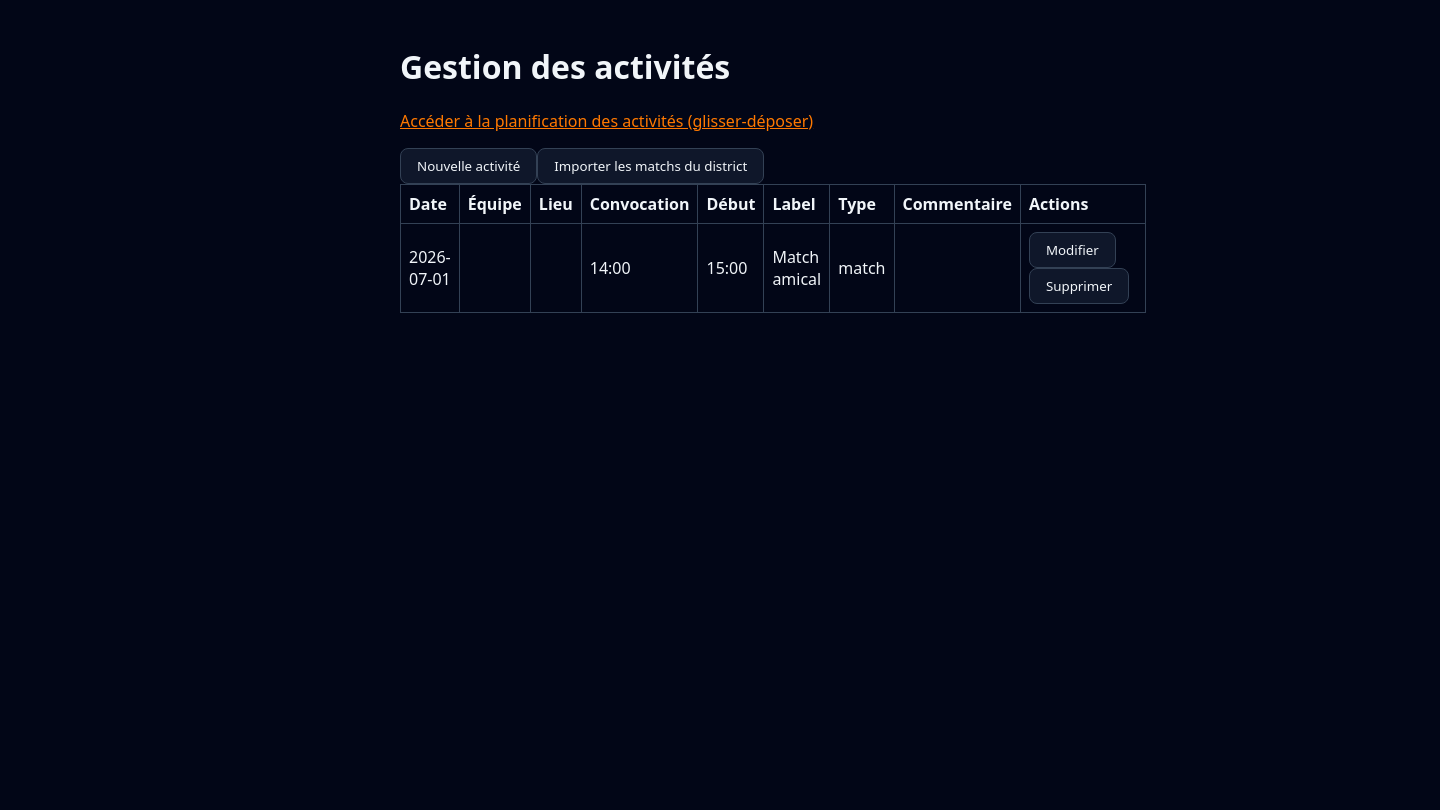
Test: AdminActivitesPage › appelle useSupprimerActivite avec l'id quand on confirme la suppression
Click the button "Supprimer".
click(1079, 286)  # box [1029, 268, 1129, 304]
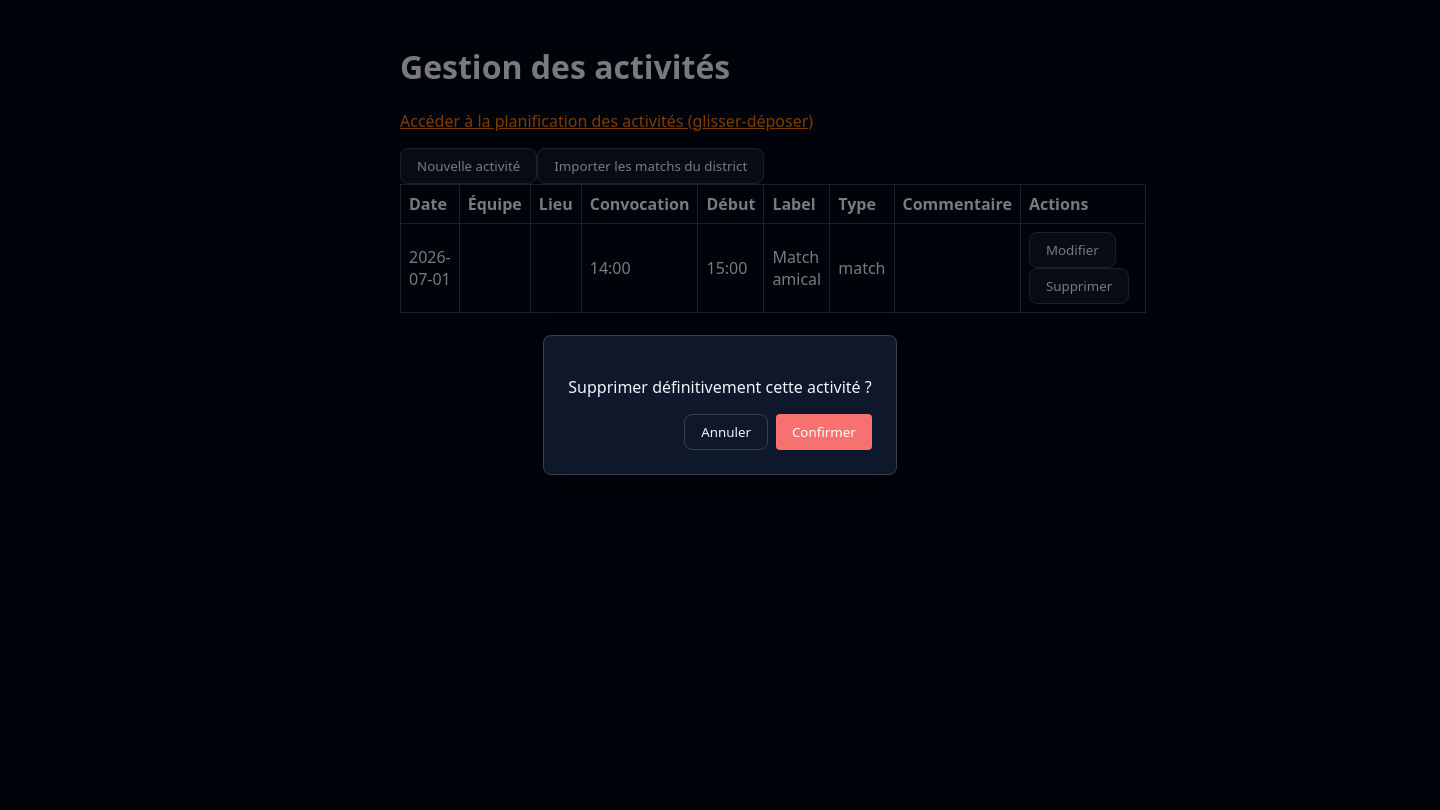
Click the button "Confirmer".
click(824, 432)  # box [776, 414, 872, 450]
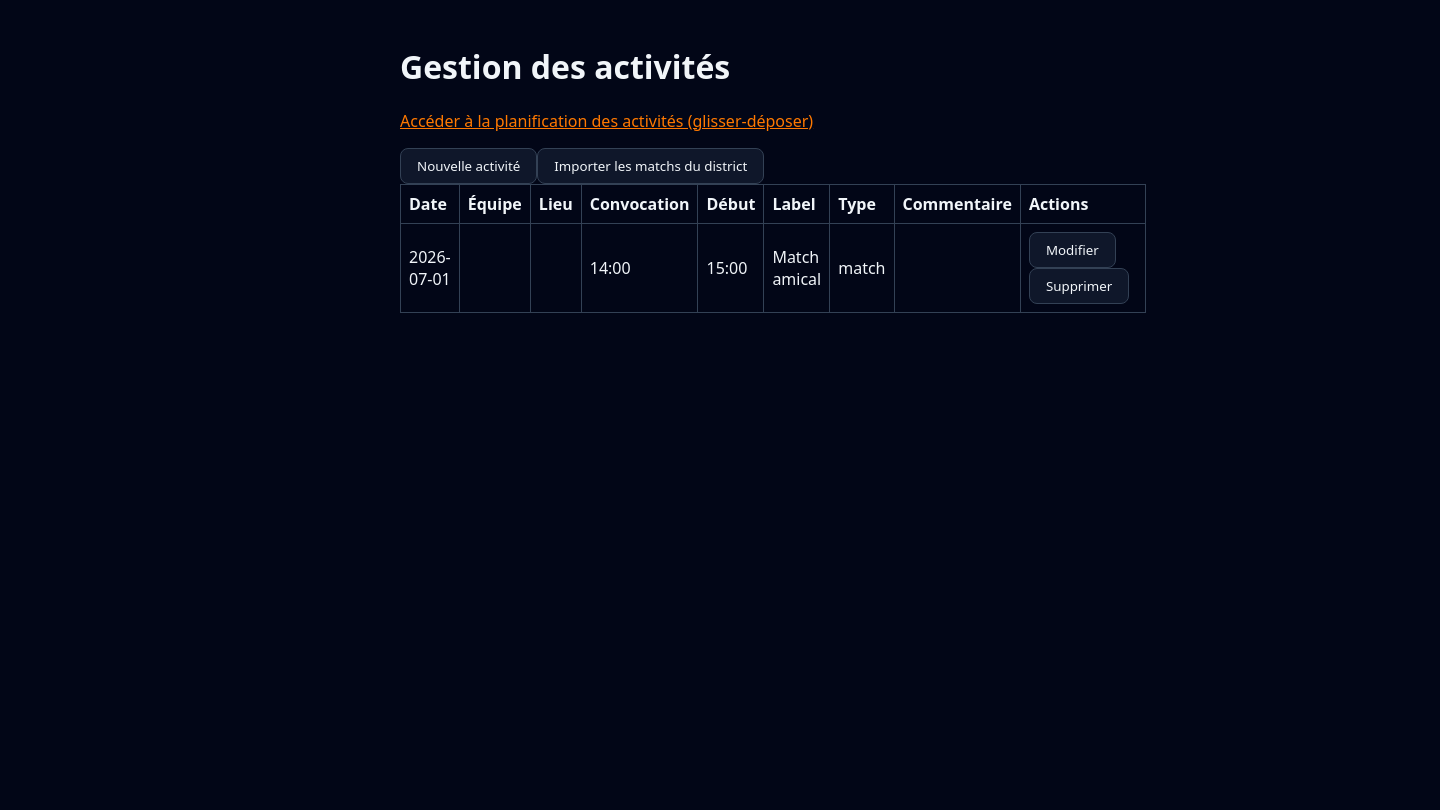
Result: the dialog is gone
